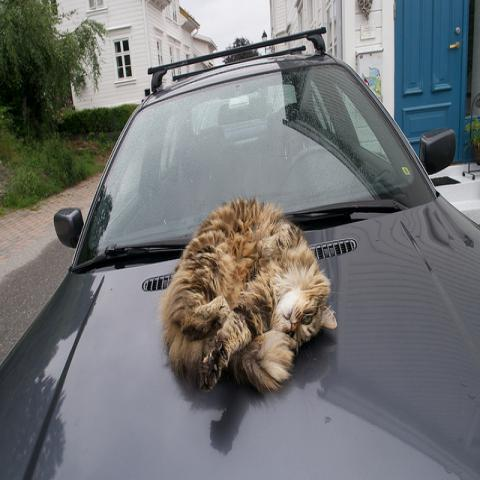car: (0, 27, 479, 473)
